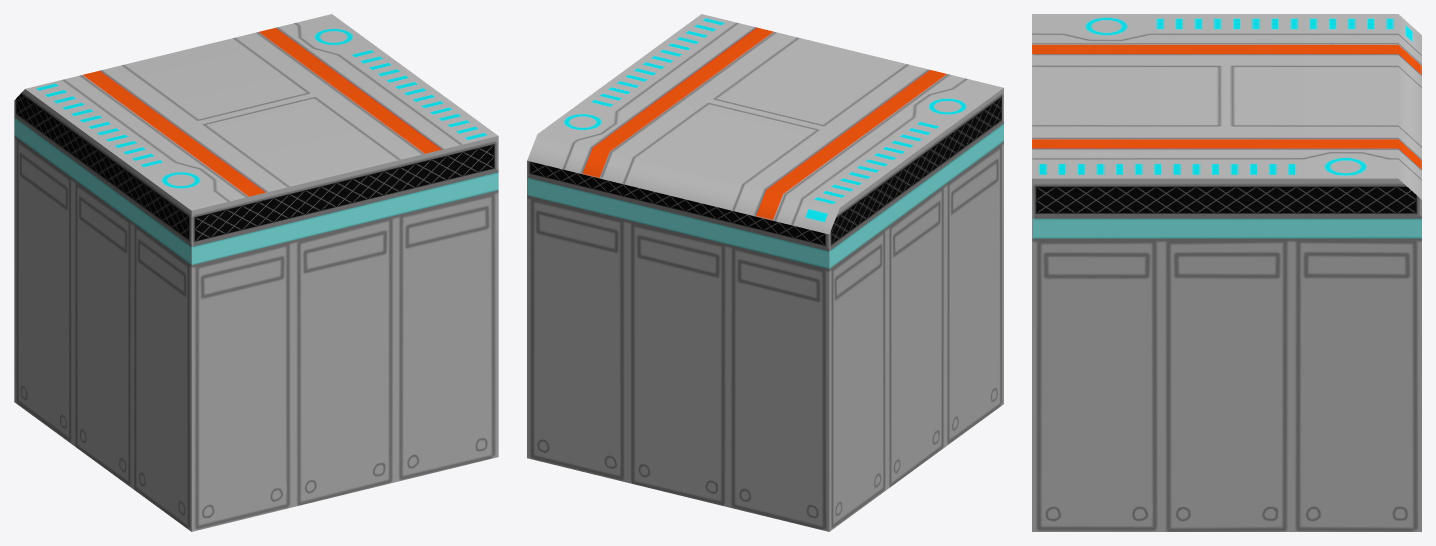
The model's file is base_block_up.fbx.
3 views of the same model, side by side, from view 1: azimuth 30°, elevation 25°; view 2: azimuth 150°, elevation 25°; view 3: azimuth 270°, elevation 25° (orthographic). The views are drawn at different scales.
Parts seen in each view (by area): view 1: base_block_up; view 2: base_block_up; view 3: base_block_up.
Part boxes in pixels (x1,y1,x2,y2): base_block_up: [14, 14, 498, 531]; base_block_up: [527, 14, 1003, 531]; base_block_up: [1032, 14, 1421, 531].
Bounding box in the file's own units: 16 × 16 × 16.
